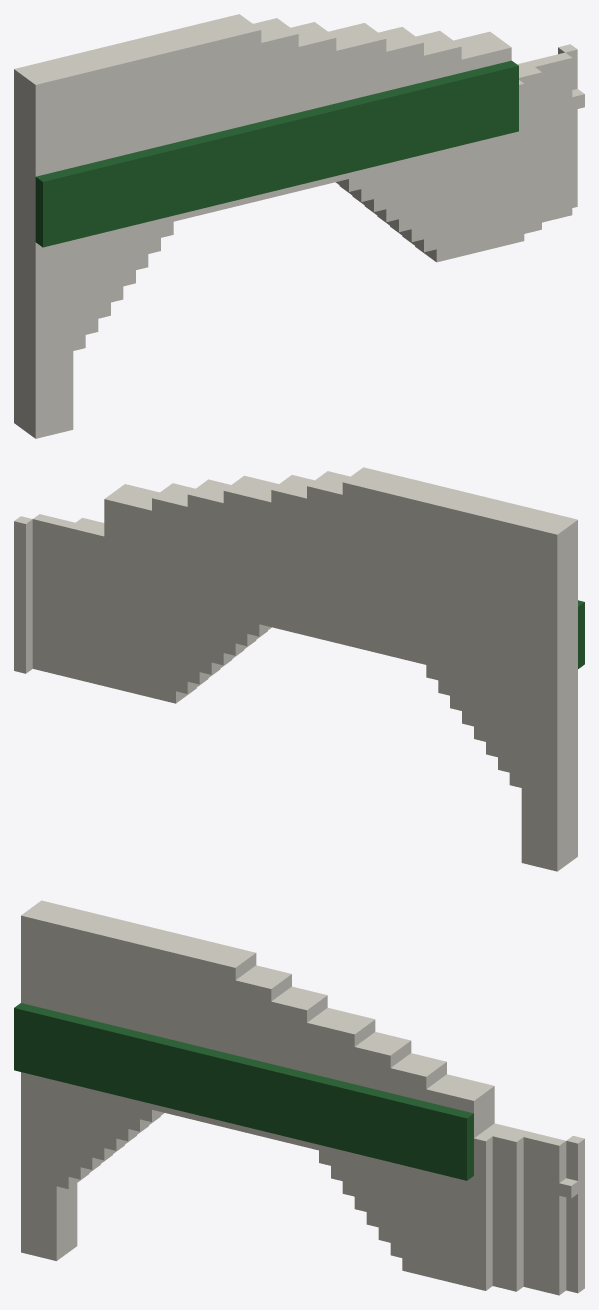
File: camper_van_front_wing.glb
3 renders of one model, top to bottom at view 1: azimuth 30°, elevation 25°; view 2: azimuth 150°, elevation 25°; view 3: azimuth 330°, elevation 25°, orthographic. The views are drawn at different scales.
Parts seen in each view (by area): view 1: body:compound; view 2: body:compound; view 3: body:compound.
Boxes of the visible parts, x1,y1,x2,y2 form: body:compound: (14, 14, 584, 438); body:compound: (14, 467, 584, 871); body:compound: (14, 900, 584, 1295).
Size of the model in its own units: 1.41 by 0.8438 by 0.1562.
